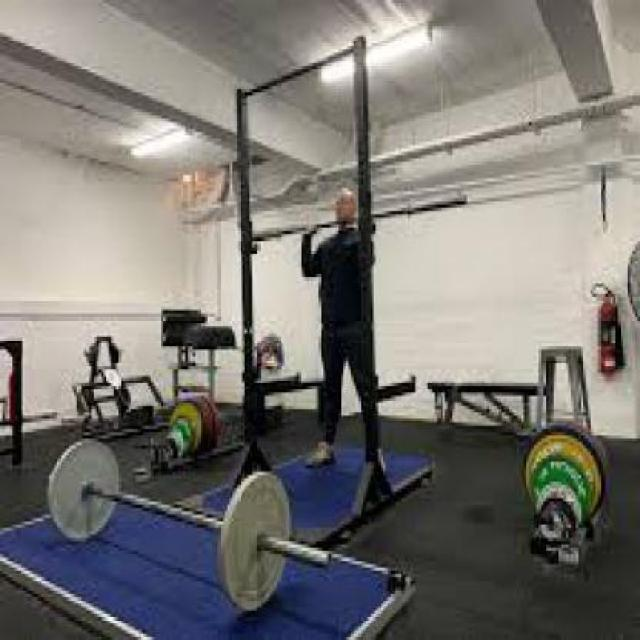barbell: (213, 473, 335, 616)
